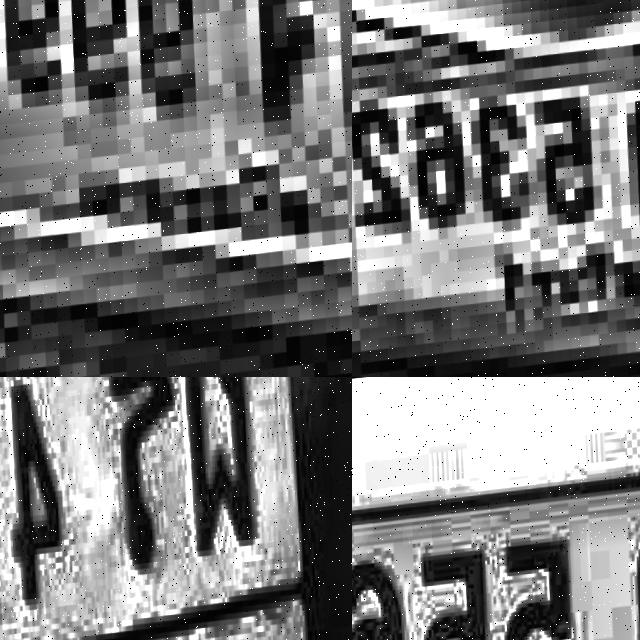license-plate: (0, 0, 352, 377), (352, 0, 640, 377), (0, 377, 352, 640), (352, 445, 640, 640)
